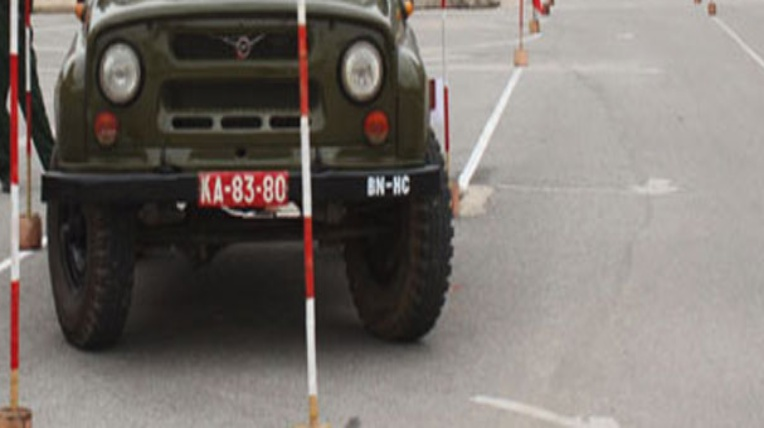plate: (198, 170, 285, 208)
